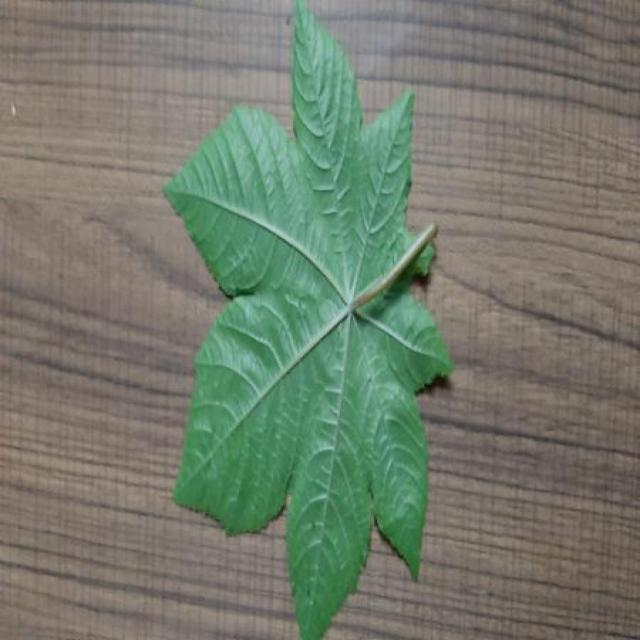castor: (165, 0, 452, 640)
